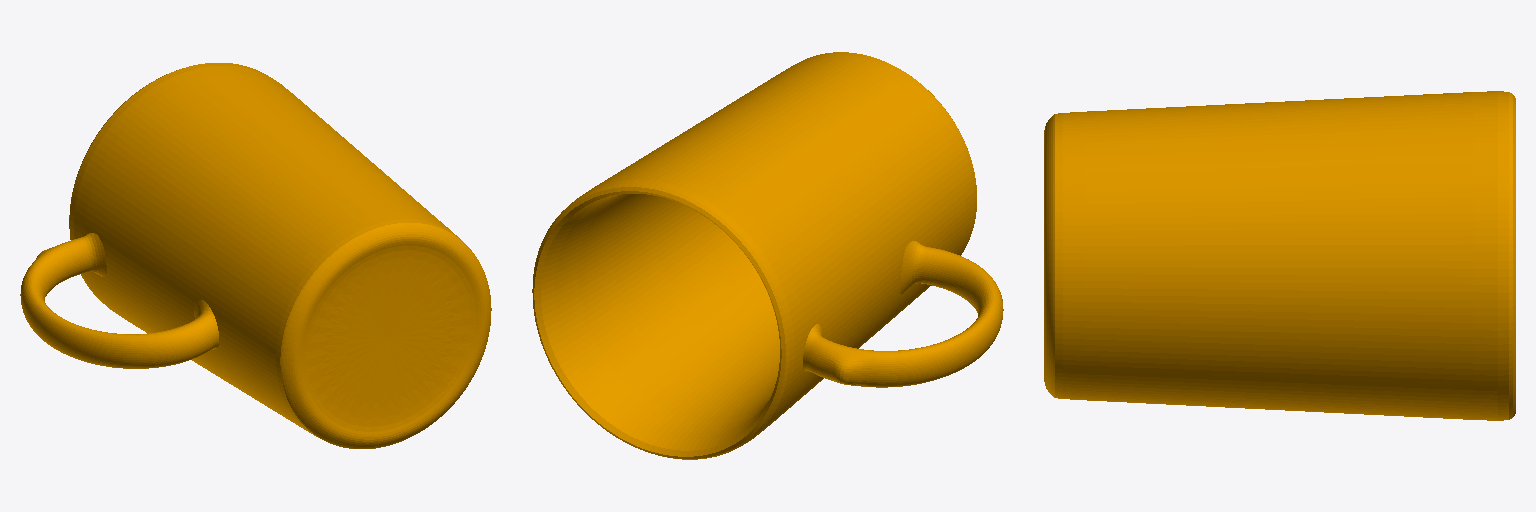
The robot description file, URDF, robot "TeaCup":
<?xml version="1.0" ?>
<robot name="TeaCup">
  <link name="TeaCupLink">
    <!--<inertial>
      <origin rpy="0 0 0" xyz="0 0 0"/>
       <mass value=".0"/>
       <inertia ixx="0" ixy="0" ixz="0" iyy="0" iyz="0" izz="0"/>
    </inertial>-->
    <visual>
      <origin rpy="0 0 0" xyz="0 0 0"/>
      <geometry>
           <mesh filename="TeaCup.obj" scale="0.2 0.2 0.2"/>
      </geometry>
       <!--<material name="white">
        <color rgba="1 1 1 1"/>
      </material>-->
    </visual>
    <collision>
      <geometry>
	 	<box size="0.2 0.2 0.2"/>
	 	<!-- find out size -->
      </geometry>
    </collision>
  </link>
</robot>

--- Render facts (derived) ---
3 views of the same robot in one strip: view 1: azimuth 30°, elevation 25°; view 2: azimuth 150°, elevation 25°; view 3: azimuth 270°, elevation 25° (orthographic).
Model TeaCup with 1 links and 0 joints (none), rooted at TeaCupLink, posed every joint at zero.
Visible links, largest first — view 1: TeaCupLink; view 2: TeaCupLink; view 3: TeaCupLink.
Link boxes in pixels (box(x1,y1,x2,y2)): TeaCupLink: box(20, 63, 491, 448); TeaCupLink: box(532, 52, 1003, 459); TeaCupLink: box(1044, 91, 1515, 420).
Size in the robot's own frame: 0.5617 by 0.5633 by 0.3943 metres.
1 mesh visuals loaded from 1 distinct referenced files (1 OBJ).